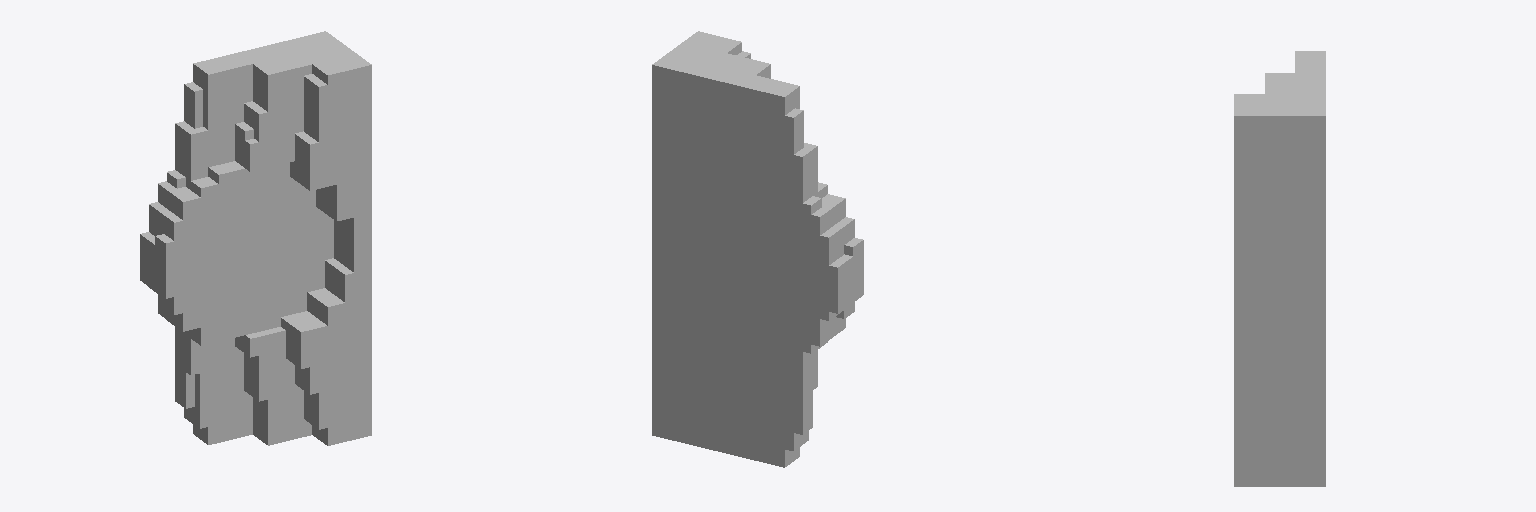
The model's file is 4x1 - dome.obj.
The picture shows the model from 3 angles: view 1: azimuth 30°, elevation 25°; view 2: azimuth 150°, elevation 25°; view 3: azimuth 270°, elevation 25°; orthographic projection.
Bounding box in the file's own units: 21 × 40 × 9.